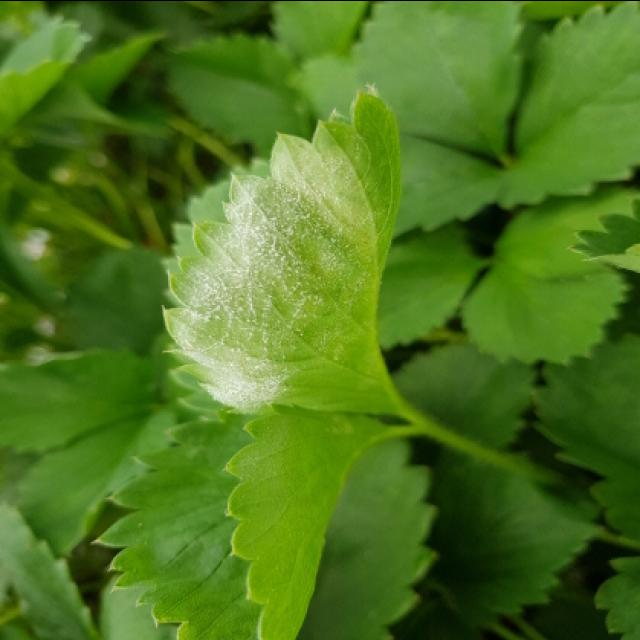Powdery Mildew Leaf: (161, 83, 405, 413)
